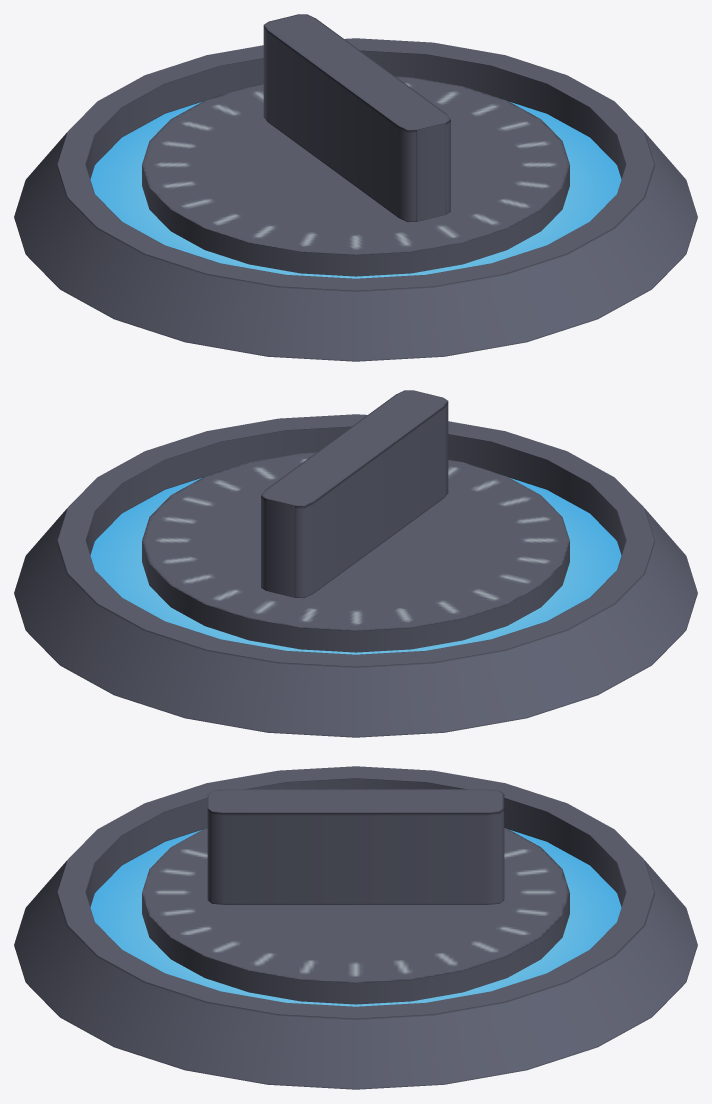
Rendered from Button_Big_Circular_Blue.FBX.
The picture shows the model from 3 angles, top to bottom: view 1: azimuth 30°, elevation 25°; view 2: azimuth 150°, elevation 25°; view 3: azimuth 270°, elevation 25°; orthographic projection.
Visible parts, largest first — view 1: Button_Big_Circular_Blue, Turn_Me_On; view 2: Button_Big_Circular_Blue, Turn_Me_On; view 3: Button_Big_Circular_Blue, Turn_Me_On.
Part boxes in pixels (x1,y1,x2,y2): Button_Big_Circular_Blue: (14, 38, 697, 361); Turn_Me_On: (142, 14, 569, 276); Button_Big_Circular_Blue: (14, 414, 697, 737); Turn_Me_On: (142, 390, 569, 652); Button_Big_Circular_Blue: (14, 766, 697, 1089); Turn_Me_On: (142, 789, 569, 1004).
Size of the model in its own units: 0.2964 by 0.0691 by 0.2964.
